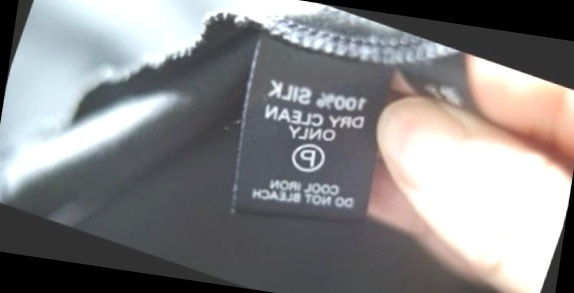dry_clean_any_solvent_except_trichloroethylene: (282, 133, 333, 181)
